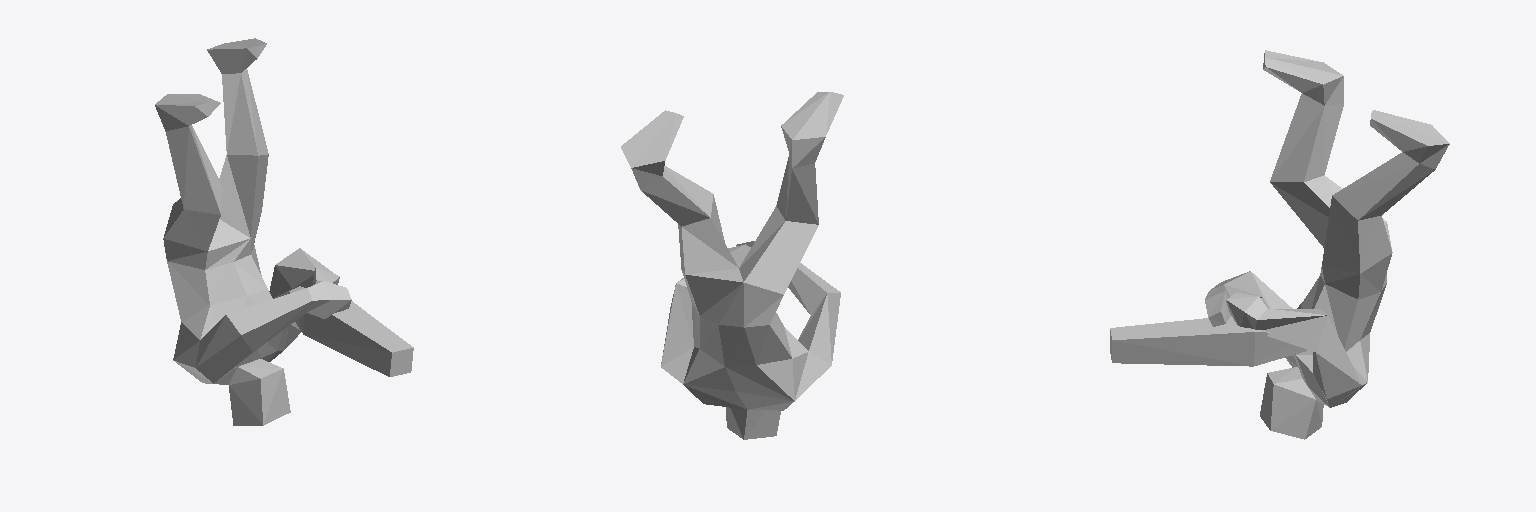
Rendered from Soldier_000007.obj.
The picture shows the model from 3 angles: view 1: azimuth 30°, elevation 25°; view 2: azimuth 150°, elevation 25°; view 3: azimuth 270°, elevation 25°; orthographic projection.
Parts seen in each view (by area): view 1: soldier_rfoot_mesh0.004; view 2: soldier_rfoot_mesh0.004; view 3: soldier_rfoot_mesh0.004.
Boxes of the visible parts, x1,y1,x2,y2 form: soldier_rfoot_mesh0.004: [155, 38, 413, 425]; soldier_rfoot_mesh0.004: [621, 92, 843, 439]; soldier_rfoot_mesh0.004: [1110, 50, 1449, 439].
Bounding box in the file's own units: 12.35 × 25.51 × 22.81.